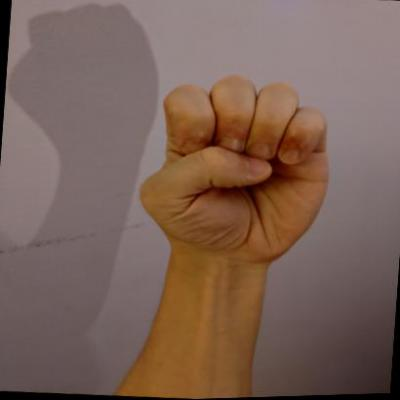hand: (131, 65, 340, 276)
